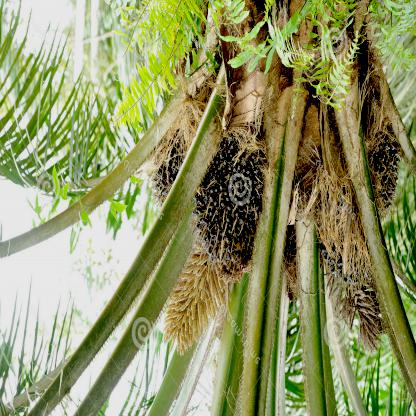palm-oil: (194, 147, 269, 277), (320, 190, 368, 286), (369, 129, 402, 215), (151, 137, 181, 209)
